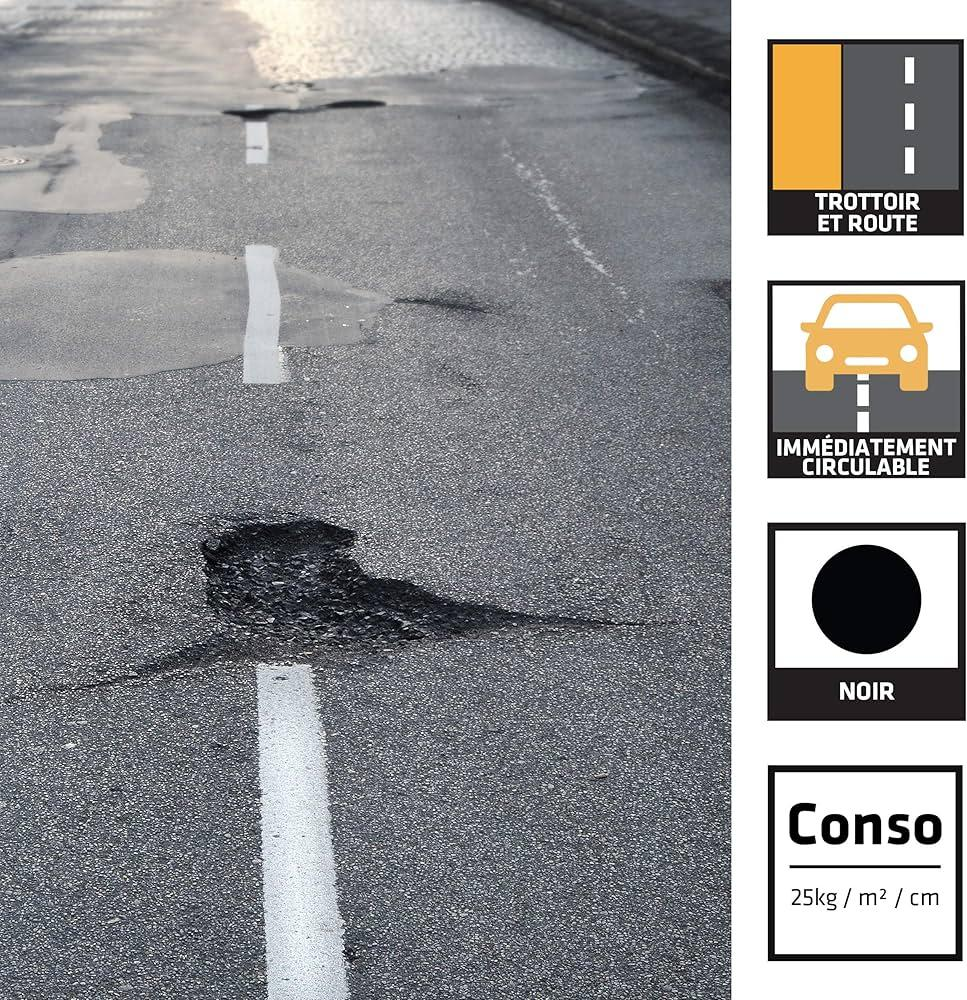faded_road_lines: (219, 228, 310, 433), (231, 117, 280, 180)
pothole: (89, 520, 558, 685), (221, 87, 387, 124)
